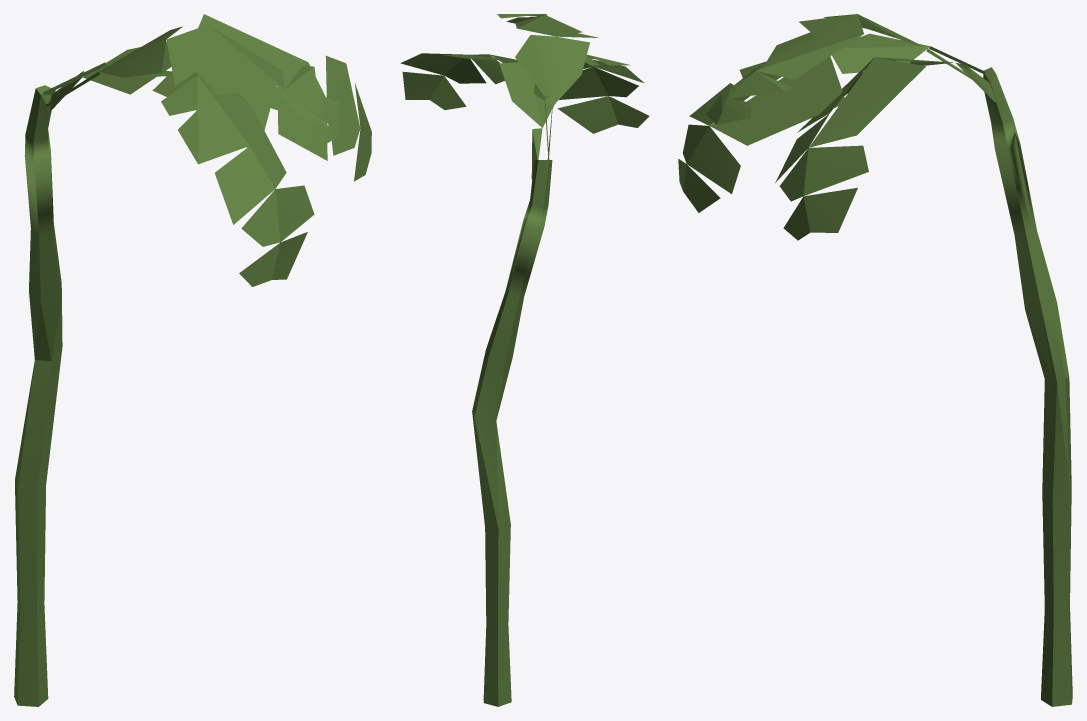
File: Vegetation_Tree_Bamboo_05.fbx
3 renders of one model, left to right at view 1: azimuth 30°, elevation 25°; view 2: azimuth 150°, elevation 25°; view 3: azimuth 270°, elevation 25°, orthographic. The views are drawn at different scales.
Visible parts, largest first — view 1: Vegetation_Tree_Bamboo_05; view 2: Vegetation_Tree_Bamboo_05; view 3: Vegetation_Tree_Bamboo_05.
Boxes of the visible parts, x1=… form: Vegetation_Tree_Bamboo_05: x1=14, y1=14, x2=371, y2=706; Vegetation_Tree_Bamboo_05: x1=400, y1=14, x2=649, y2=706; Vegetation_Tree_Bamboo_05: x1=678, y1=14, x2=1072, y2=706.
Size of the model in its own units: 85.32 by 231 by 118.
